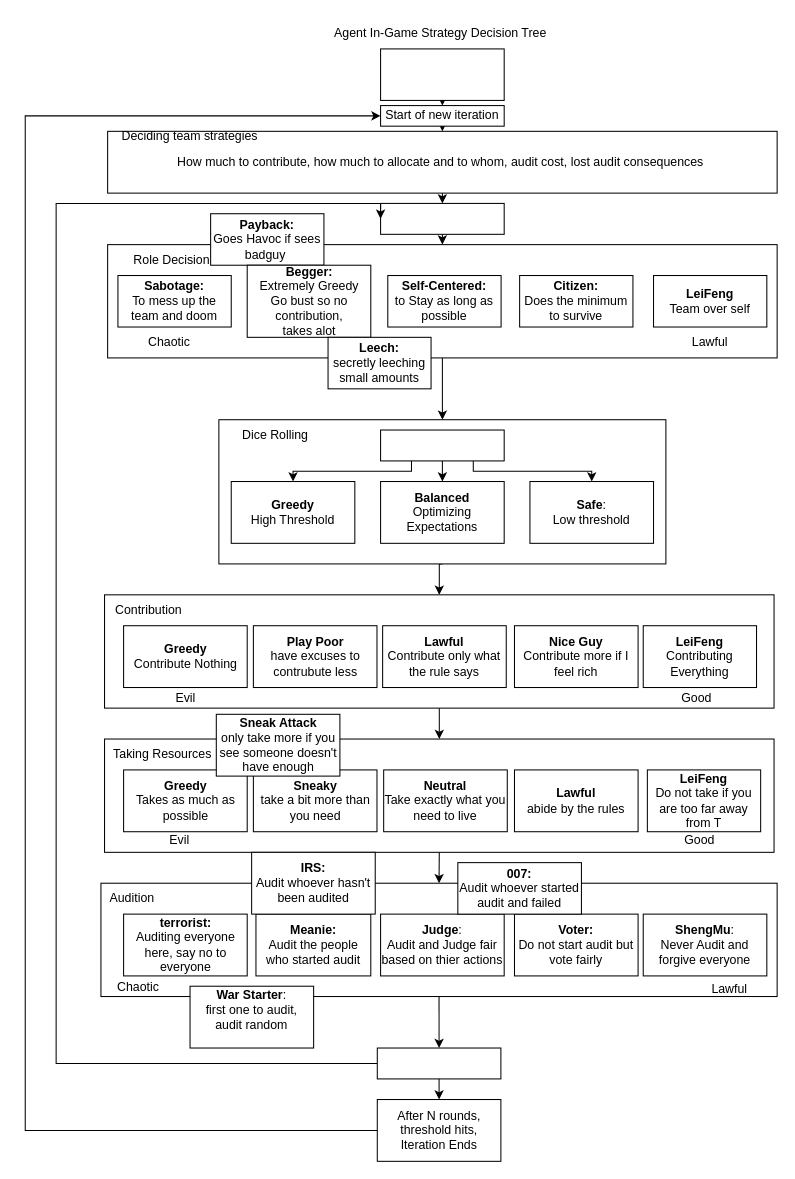
Image size: 795x1179. Some labels were removed from this diagram. Here are the shapes that lost their labels. From the top down, the centre of each, then its label:
At (x=442, y=74): "Start of Game After Team Forming".
At (x=442, y=218): "Start of new round".
At (x=442, y=445): "Depending on the Role".
At (x=438, y=1063): "Round End".
